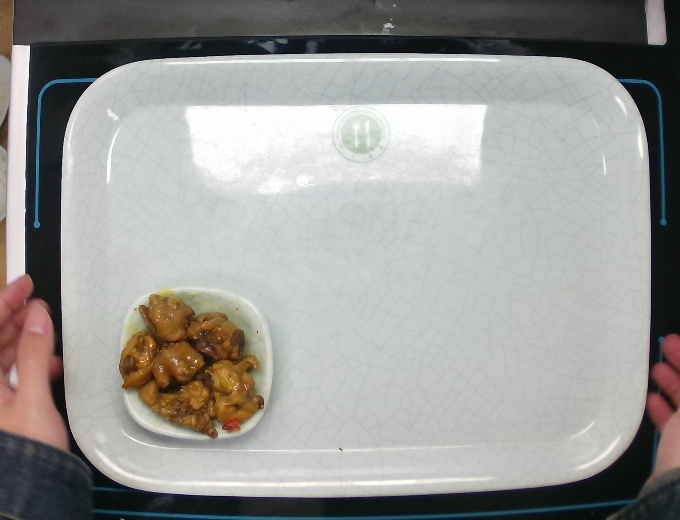JYsf-Si_Fang_Die: (116, 280, 278, 439)
